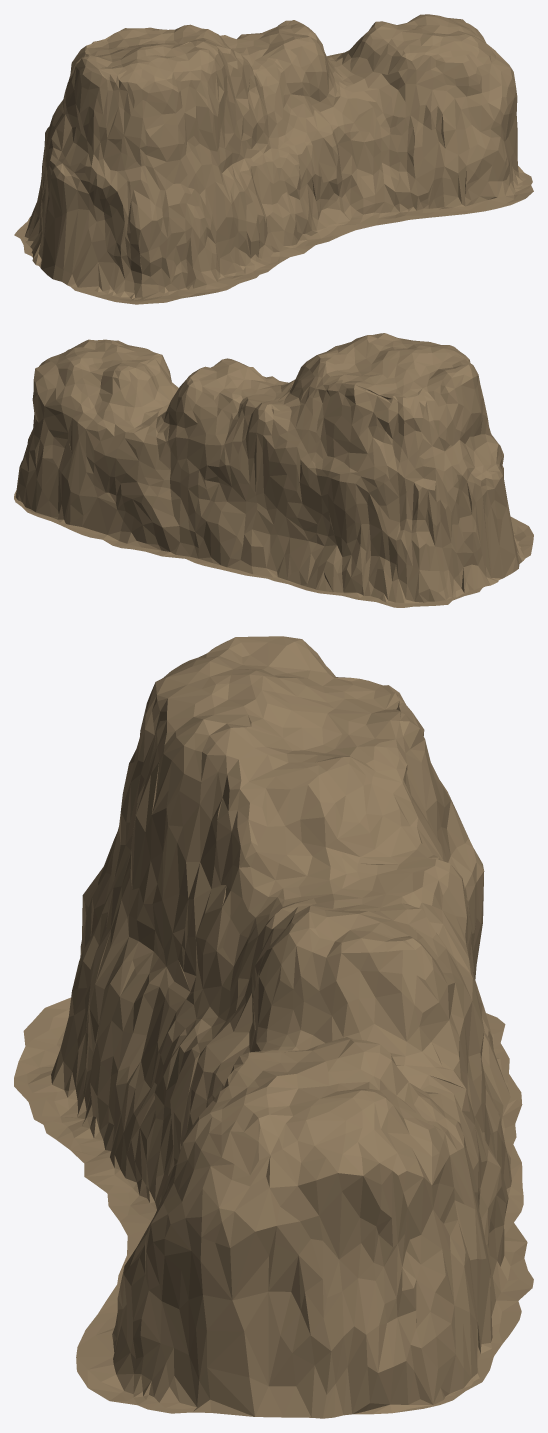
File: Cliff03.fbx
3 views of the same model, one above another, from view 1: azimuth 30°, elevation 25°; view 2: azimuth 150°, elevation 25°; view 3: azimuth 270°, elevation 25° (orthographic). The views are drawn at different scales.
Parts seen in each view (by area): view 1: Cliff03; view 2: Cliff03; view 3: Cliff03.
Part boxes in pixels (bbox=[...]): Cliff03: bbox=[14, 14, 533, 304]; Cliff03: bbox=[14, 333, 533, 607]; Cliff03: bbox=[14, 636, 533, 1418].
Size of the model in its own units: 164 by 68.6 by 80.66.
